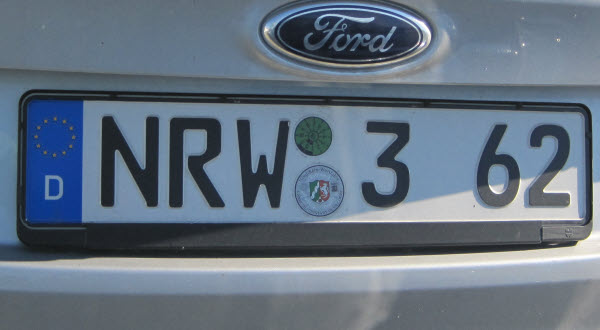license_plate: (20, 91, 591, 227)
